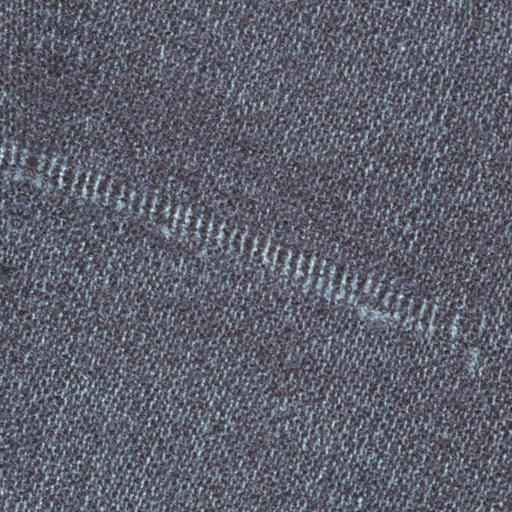slub: (2, 142, 468, 346)
